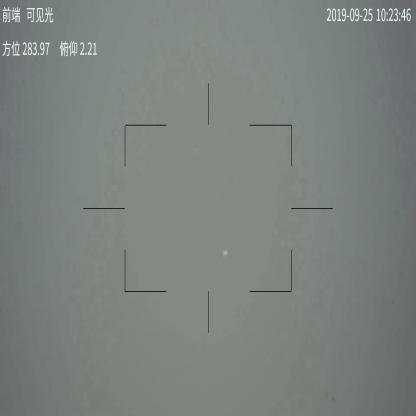uav: (221, 248, 228, 257)
